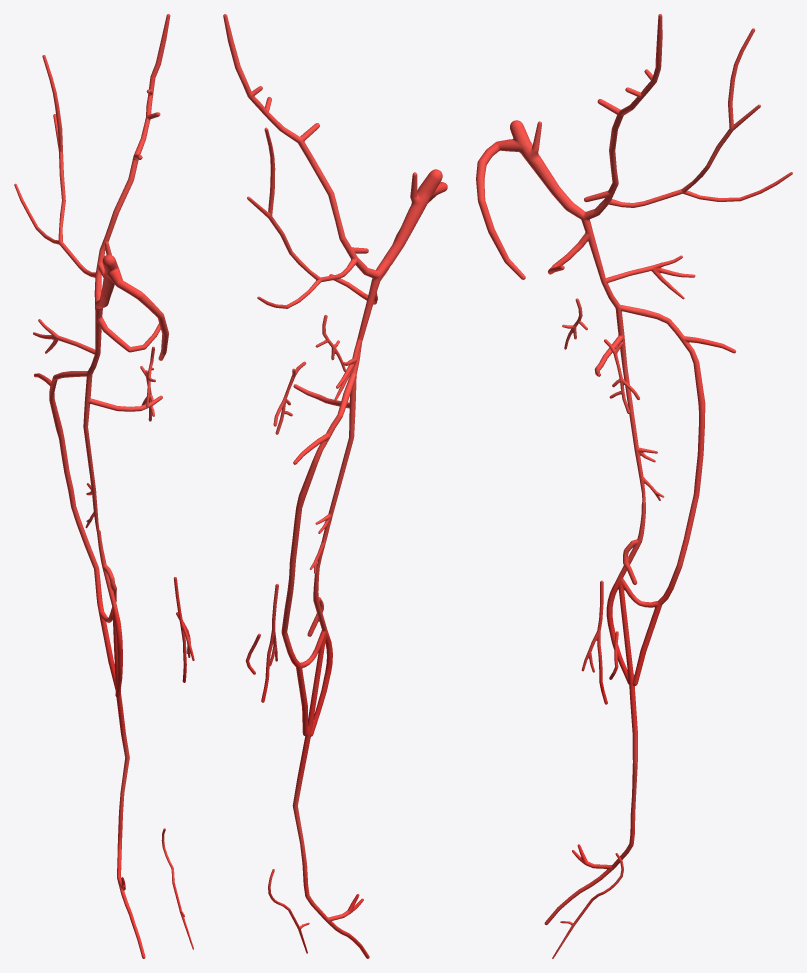
Rendered from Arteries.glb.
3 views of the same model, side by side, from view 1: azimuth 30°, elevation 25°; view 2: azimuth 150°, elevation 25°; view 3: azimuth 270°, elevation 25° (orthographic). The views are drawn at different scales.
Parts seen in each view (by area): view 1: PM3D_arteries_1.001, PM3D_ZSphere1_11.001; view 2: PM3D_arteries_1.001, PM3D_ZSphere1_11.001; view 3: PM3D_arteries_1.001, PM3D_ZSphere1_11.001.
Part boxes in pixels (x1,y1,x2,y2): PM3D_arteries_1.001: (14, 14, 170, 958); PM3D_ZSphere1_11.001: (173, 577, 194, 682); PM3D_arteries_1.001: (223, 14, 447, 958); PM3D_ZSphere1_11.001: (261, 584, 278, 702); PM3D_arteries_1.001: (476, 14, 792, 925); PM3D_ZSphere1_11.001: (581, 580, 607, 704).
Size of the model in its own units: 0.2076 by 1.33 by 0.3981.
6 materials, 6 textured.
